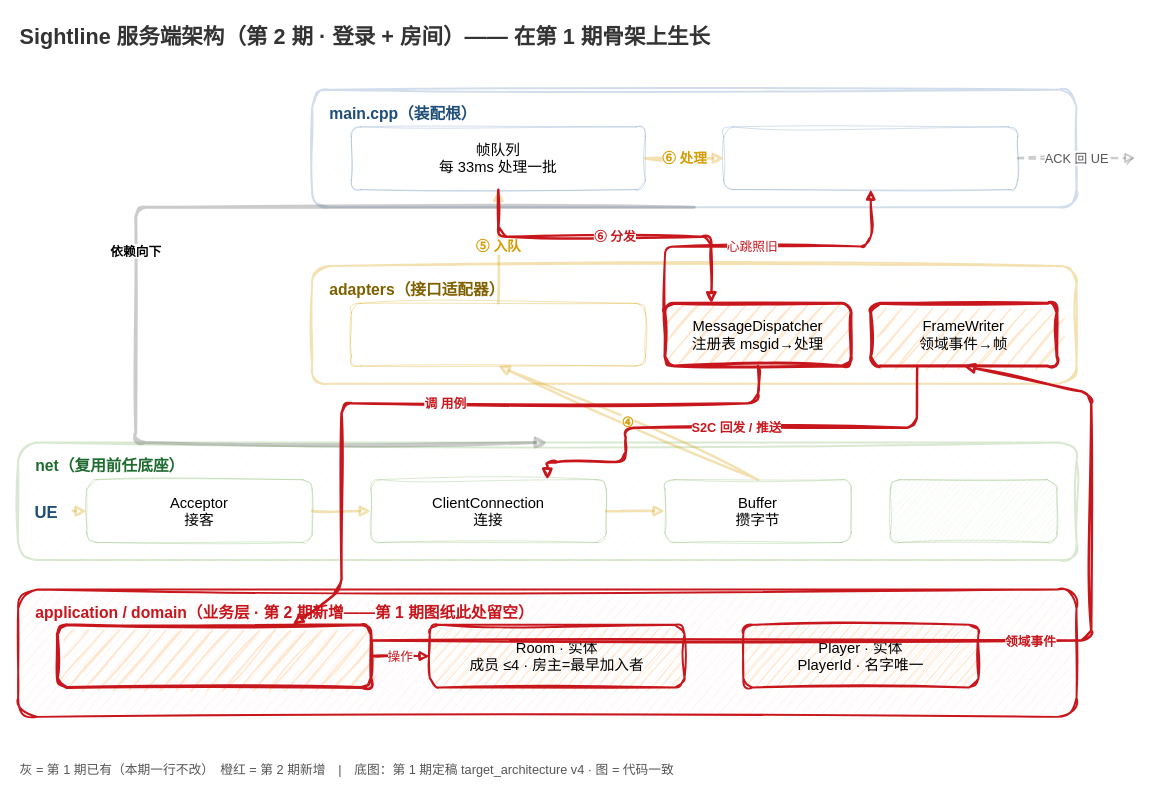
Image size: 1160x798. Some labels were removed from this diagram. The shapes that lost their labels are listed below. From the top down, each one's centre as x and y in pixels, then its label:
At [870,158]: "心跳 echo 校验 seq · 回 ACK".
At [497,334]: "FrameCodec 切帧".
At [973,510]: "EventLoop · 时间轮 底座（复用）".
At [213,655]: "LobbyService · 用例 登录 / 建房 / 进房 / 列表".
